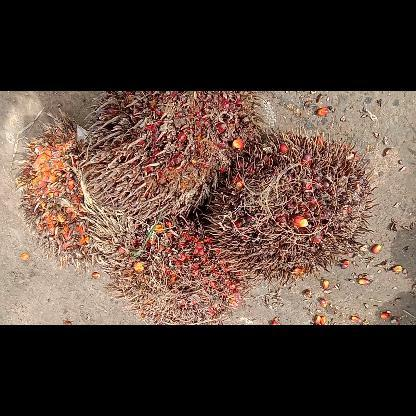Terlalu masak: (202, 130, 376, 284), (85, 91, 267, 217), (86, 206, 252, 324), (18, 110, 106, 268)
